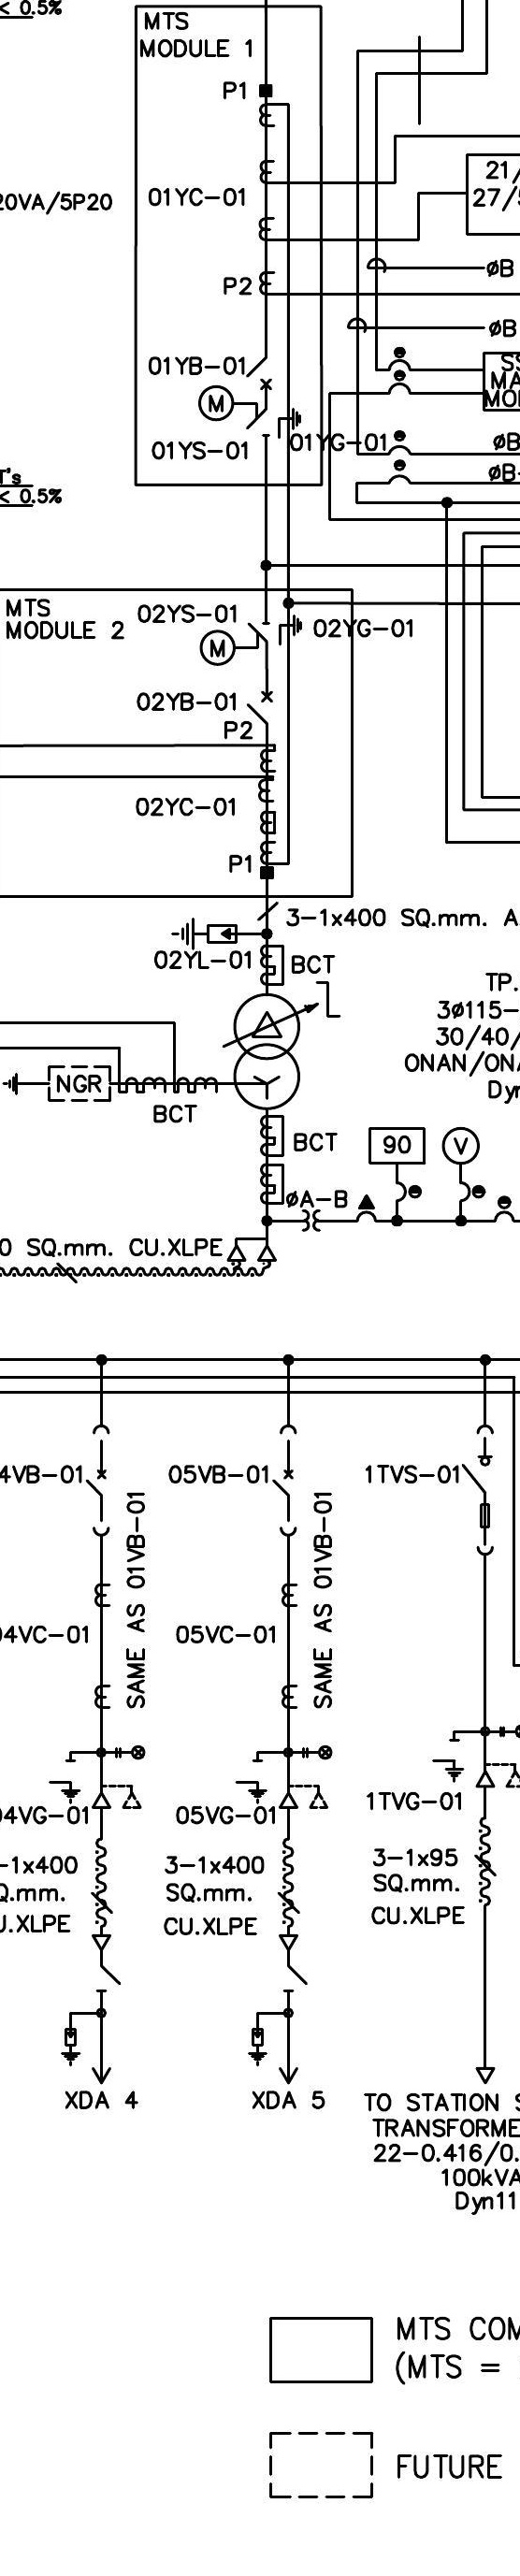11522_tx_dyn1: (233, 992, 301, 1111)
115_3ways_ds_w_motor: (197, 384, 302, 440), (198, 614, 303, 667)
115_breaker: (245, 356, 273, 391), (246, 690, 274, 725)
115_la: (170, 917, 238, 951)
22_breaker: (83, 1424, 110, 1537), (271, 1424, 298, 1537)
22_ds: (460, 1424, 495, 1556)
22_ds_la_out: (59, 1965, 121, 2085), (247, 1965, 309, 2085)
22_gs: (47, 1758, 81, 1805), (234, 1758, 268, 1805), (431, 1739, 466, 1784)
22_ll: (302, 1744, 334, 1760), (115, 1745, 146, 1760)
NGR_future: (2, 1064, 112, 1103)
terminator_double: (226, 1237, 277, 1262)
terminator_single: (91, 1933, 112, 1952), (278, 1933, 299, 1952), (474, 2066, 496, 2085)
terminator_w_future: (90, 1784, 143, 1810), (278, 1784, 330, 1810)
v_m: (441, 1126, 481, 1165)
